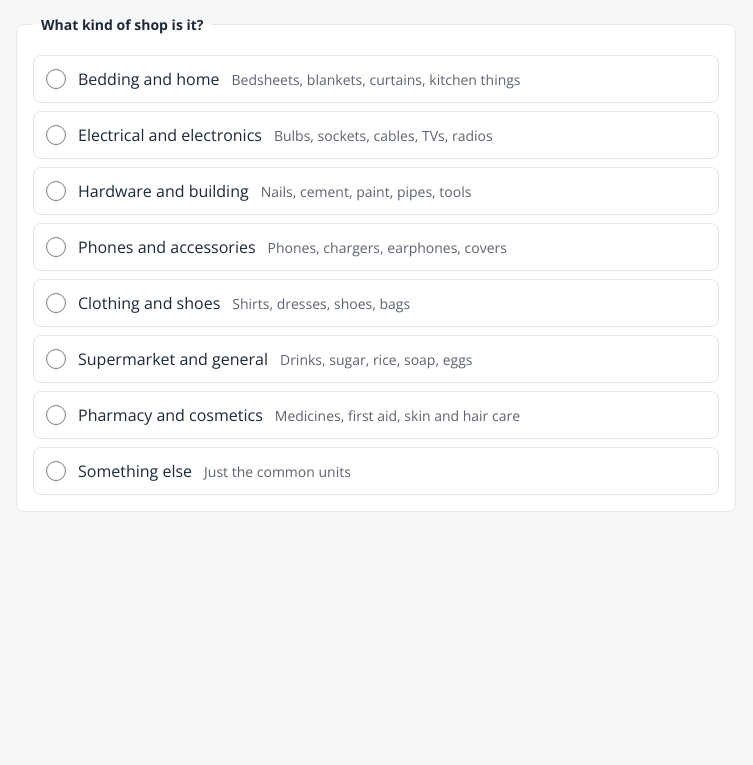
Scenario: Set up your shop (issue #625) › shows what was left out and why, rather than saying the shop has everything
The image size is (753, 765).
Click the radio button labelled "Hardware and building Nails, cement, paint, pipes, tools" at point(56, 191), box [46, 181, 66, 201]
(page scrolled)
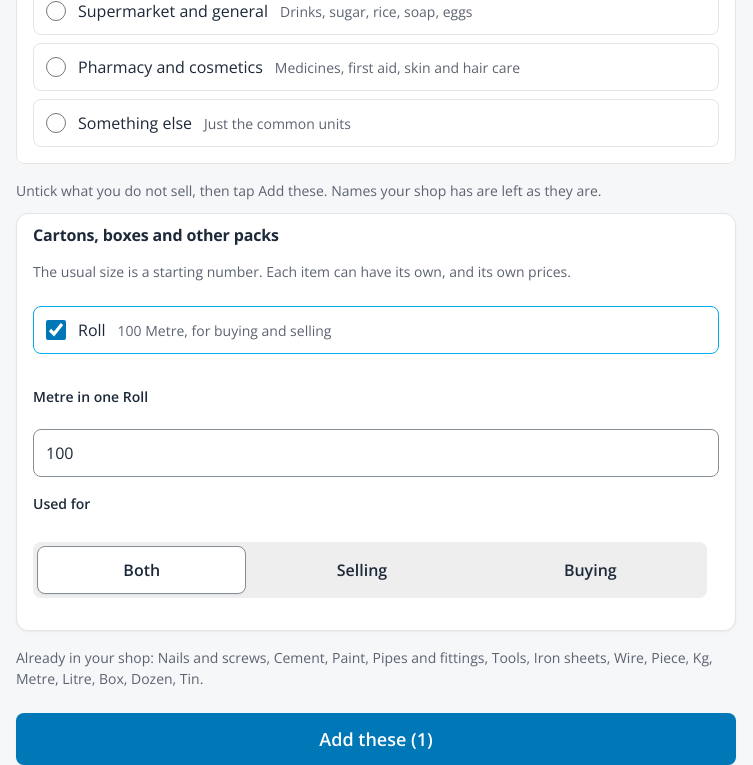
Now the element with test id "setup-pack-roll" is shown, box [33, 298, 719, 614]
Click the button "Add these (1)" at point(376, 739), box [16, 713, 736, 764]
(page scrolled)
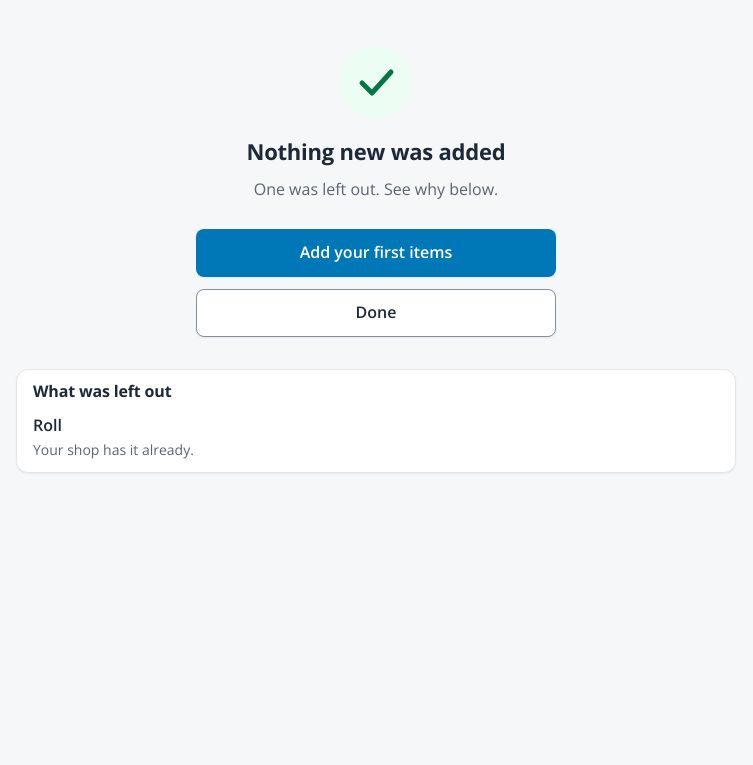
Now the heading "Nothing new was added" is shown, box [246, 138, 506, 165]
Now the text "One was left out. See why below." is shown, box [254, 177, 498, 201]
Now the text "Your shop has it already." is shown, box [33, 440, 194, 459]
